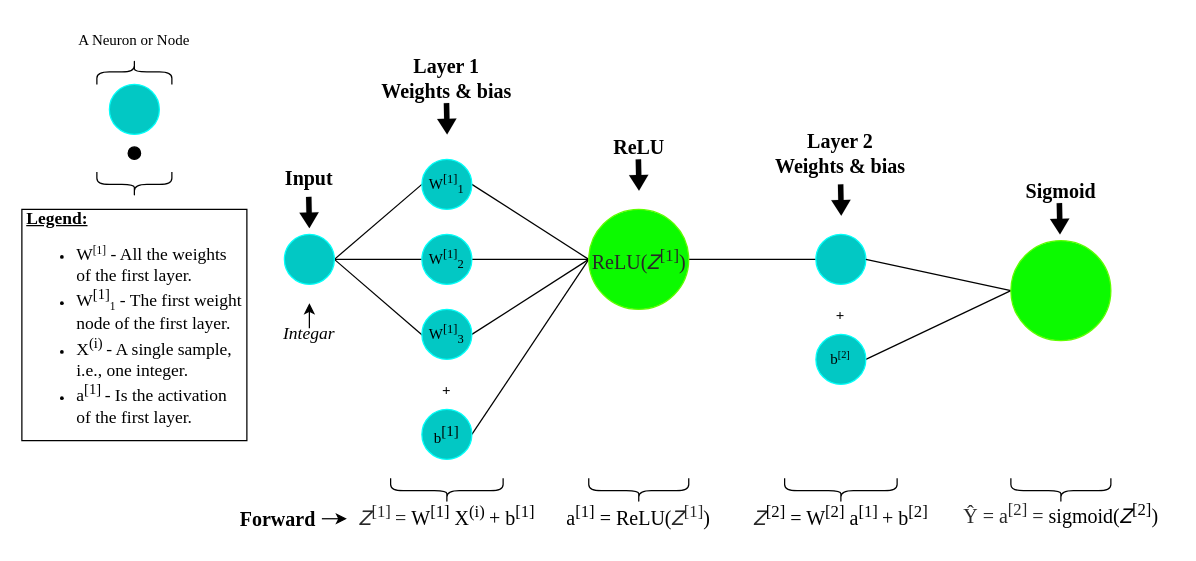
Image size: 1196x561. Some labels were removed from this diagram. Each missing label, with the box of its shape:
W [2] 1: (815, 233, 866, 284)
X (i): (283, 233, 334, 284)
Ŷ = σ( 𝑍 [2] ): (1010, 239, 1111, 341)
